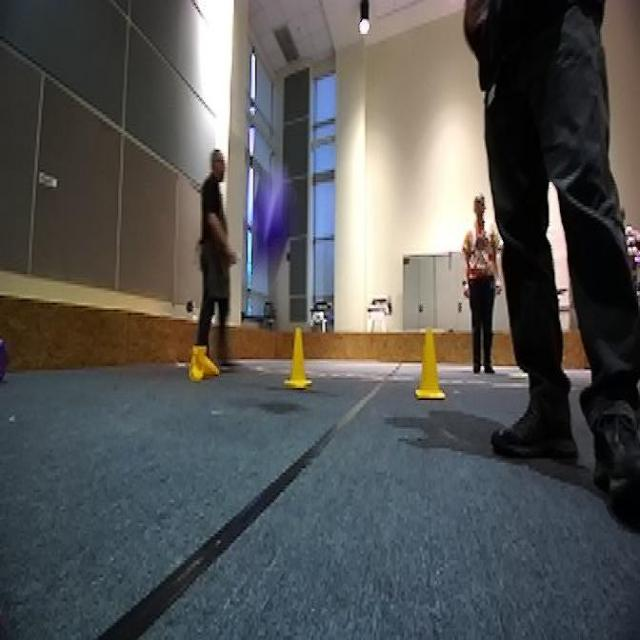frc_cone: (408, 328, 454, 398), (282, 328, 314, 386), (190, 351, 215, 381)
frc_cube: (243, 175, 293, 269), (0, 337, 10, 383)
